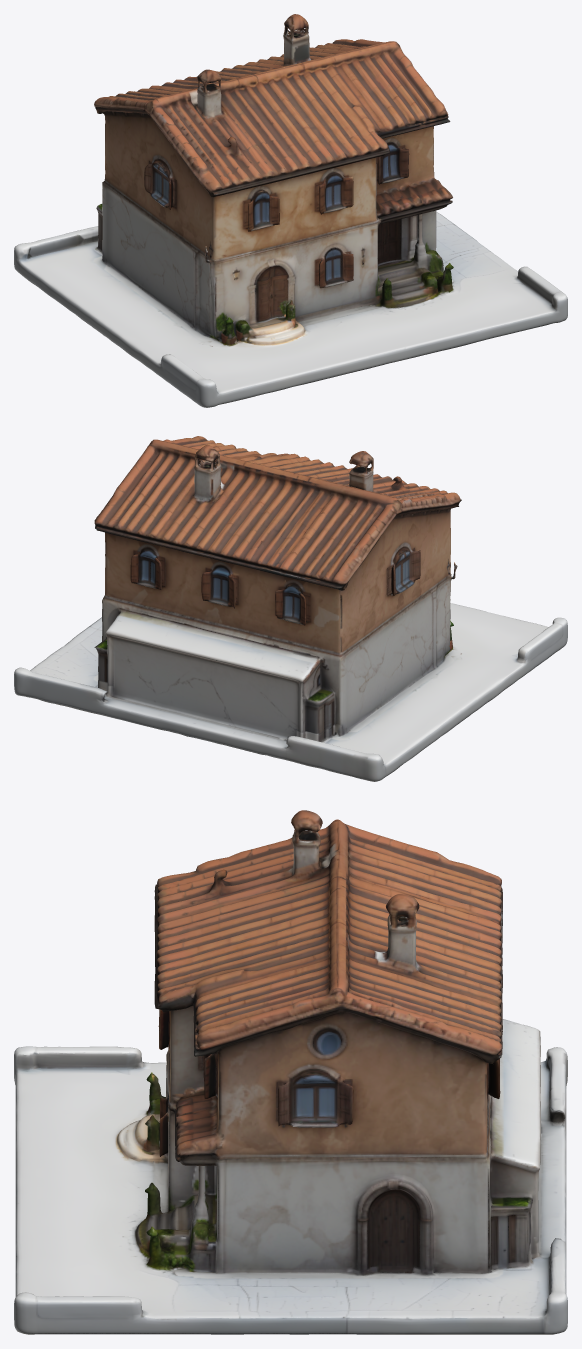
File: object_4.015_lev2.glb
The picture shows the model from 3 angles, top to bottom: view 1: azimuth 30°, elevation 25°; view 2: azimuth 150°, elevation 25°; view 3: azimuth 270°, elevation 25°; orthographic projection. The views are drawn at different scales.
Parts seen in each view (by area): view 1: object_4.015_lev2; view 2: object_4.015_lev2; view 3: object_4.015_lev2.
Part boxes in pixels (x1,y1,x2,y2): object_4.015_lev2: [14, 14, 567, 407]; object_4.015_lev2: [14, 436, 567, 781]; object_4.015_lev2: [14, 810, 567, 1334].
Bounding box in the file's own units: 72.54 × 45.46 × 66.21.
Materials: 1 (1 with a texture image).
